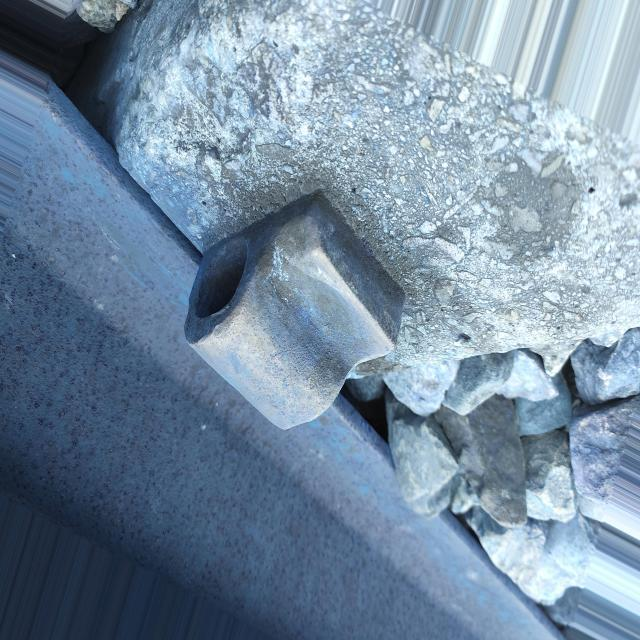Missing Fastener: (147, 165, 434, 456)
